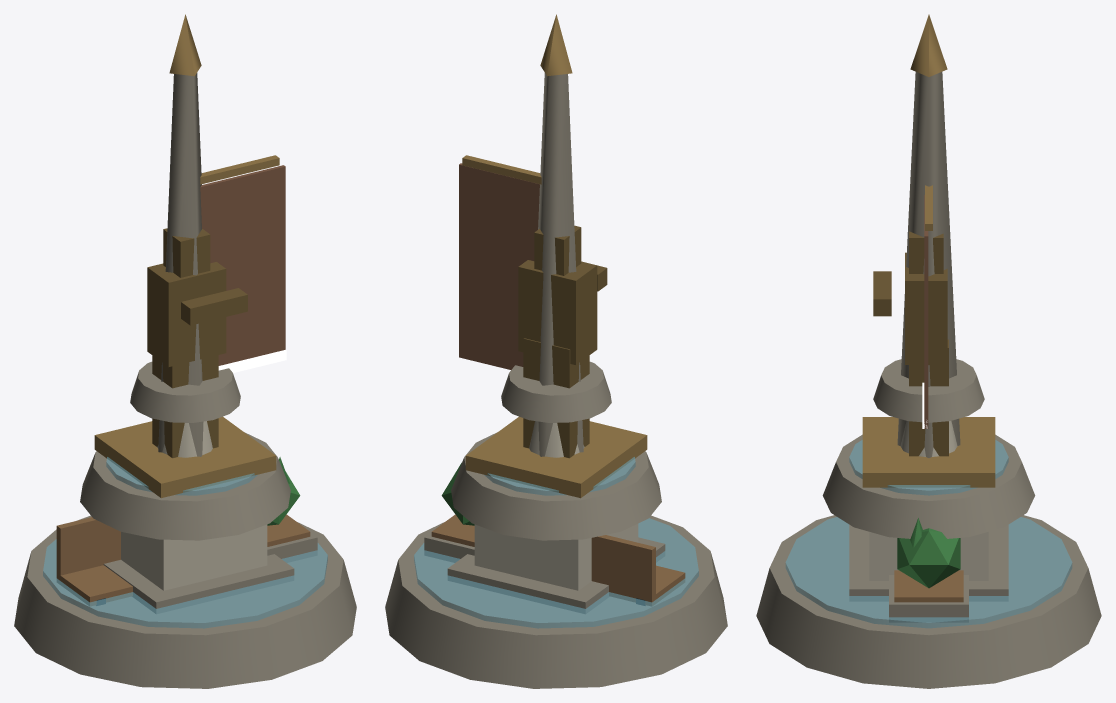
File: hq-civic-art-pack.glb
3 views of the same model, side by side, from view 1: azimuth 30°, elevation 25°; view 2: azimuth 150°, elevation 25°; view 3: azimuth 270°, elevation 25° (orthographic).
Visible parts, largest first — view 1: Fountain_Basin_Lower, Banner_Cloth, Fountain_Basin_Mid, Fountain_Water_Lower, Statue_Plinth_Cap, Obelisk_Shaft, Statue_Plinth_Body, Statue_Torso, Fountain_Basin_Top, Statue_Plinth_Base, Bench_Back, Statue_Legs (+10 smaller); view 2: Fountain_Basin_Lower, Banner_Cloth, Fountain_Basin_Mid, Fountain_Water_Lower, Obelisk_Shaft, Statue_Plinth_Cap, Statue_Torso, Statue_Plinth_Body, Fountain_Basin_Top, Statue_Plinth_Base, Bench_Back, Statue_Legs (+8 smaller); view 3: Fountain_Basin_Lower, Fountain_Water_Lower, Fountain_Basin_Mid, Obelisk_Shaft, Statue_Plinth_Cap, Fountain_Basin_Top, Statue_Plinth_Base, Statue_Torso, Bench_Bush, Statue_Plinth_Body, Bench_Planter_Box, Statue_Legs (+6 smaller).
Boxes of the visible parts, <box> form: Fountain_Basin_Lower: <box>14,515,356,688</box>; Banner_Cloth: <box>200,165,285,365</box>; Fountain_Basin_Mid: <box>80,432,290,540</box>; Fountain_Water_Lower: <box>43,539,327,628</box>; Statue_Plinth_Cap: <box>94,416,276,498</box>; Obelisk_Shaft: <box>158,73,203,456</box>; Statue_Plinth_Body: <box>121,524,267,590</box>; Statue_Torso: <box>147,262,226,366</box>; Fountain_Basin_Top: <box>130,361,240,422</box>; Statue_Plinth_Base: <box>103,554,294,614</box>; Bench_Back: <box>56,517,120,575</box>; Statue_Legs: <box>152,355,218,458</box>; Fountain_Basin_Lower: <box>385,515,727,688</box>; Banner_Cloth: <box>459,163,539,369</box>; Fountain_Basin_Mid: <box>451,432,661,540</box>; Fountain_Water_Lower: <box>414,518,698,628</box>; Obelisk_Shaft: <box>538,73,583,456</box>; Statue_Plinth_Cap: <box>465,416,647,498</box>; Statue_Torso: <box>518,260,597,364</box>; Statue_Plinth_Body: <box>474,524,638,590</box>; Fountain_Basin_Top: <box>501,361,611,422</box>; Statue_Plinth_Base: <box>447,537,665,614</box>; Bench_Back: <box>591,535,655,597</box>; Statue_Legs: <box>523,338,589,458</box>; Fountain_Basin_Lower: <box>756,515,1101,688</box>; Fountain_Water_Lower: <box>785,517,1072,628</box>; Fountain_Basin_Mid: <box>822,434,1035,538</box>; Obelisk_Shaft: <box>897,72,960,457</box>; Statue_Plinth_Cap: <box>862,417,995,487</box>; Fountain_Basin_Top: <box>873,359,984,422</box>; Statue_Plinth_Base: <box>849,524,1008,601</box>; Statue_Torso: <box>905,252,947,364</box>; Bench_Bush: <box>897,528,960,588</box>; Statue_Plinth_Body: <box>869,532,988,580</box>; Bench_Planter_Box: <box>889,575,968,622</box>; Statue_Legs: <box>909,339,948,456</box>.
Bounding box in the file's own units: 2.6 × 5 × 2.6.
